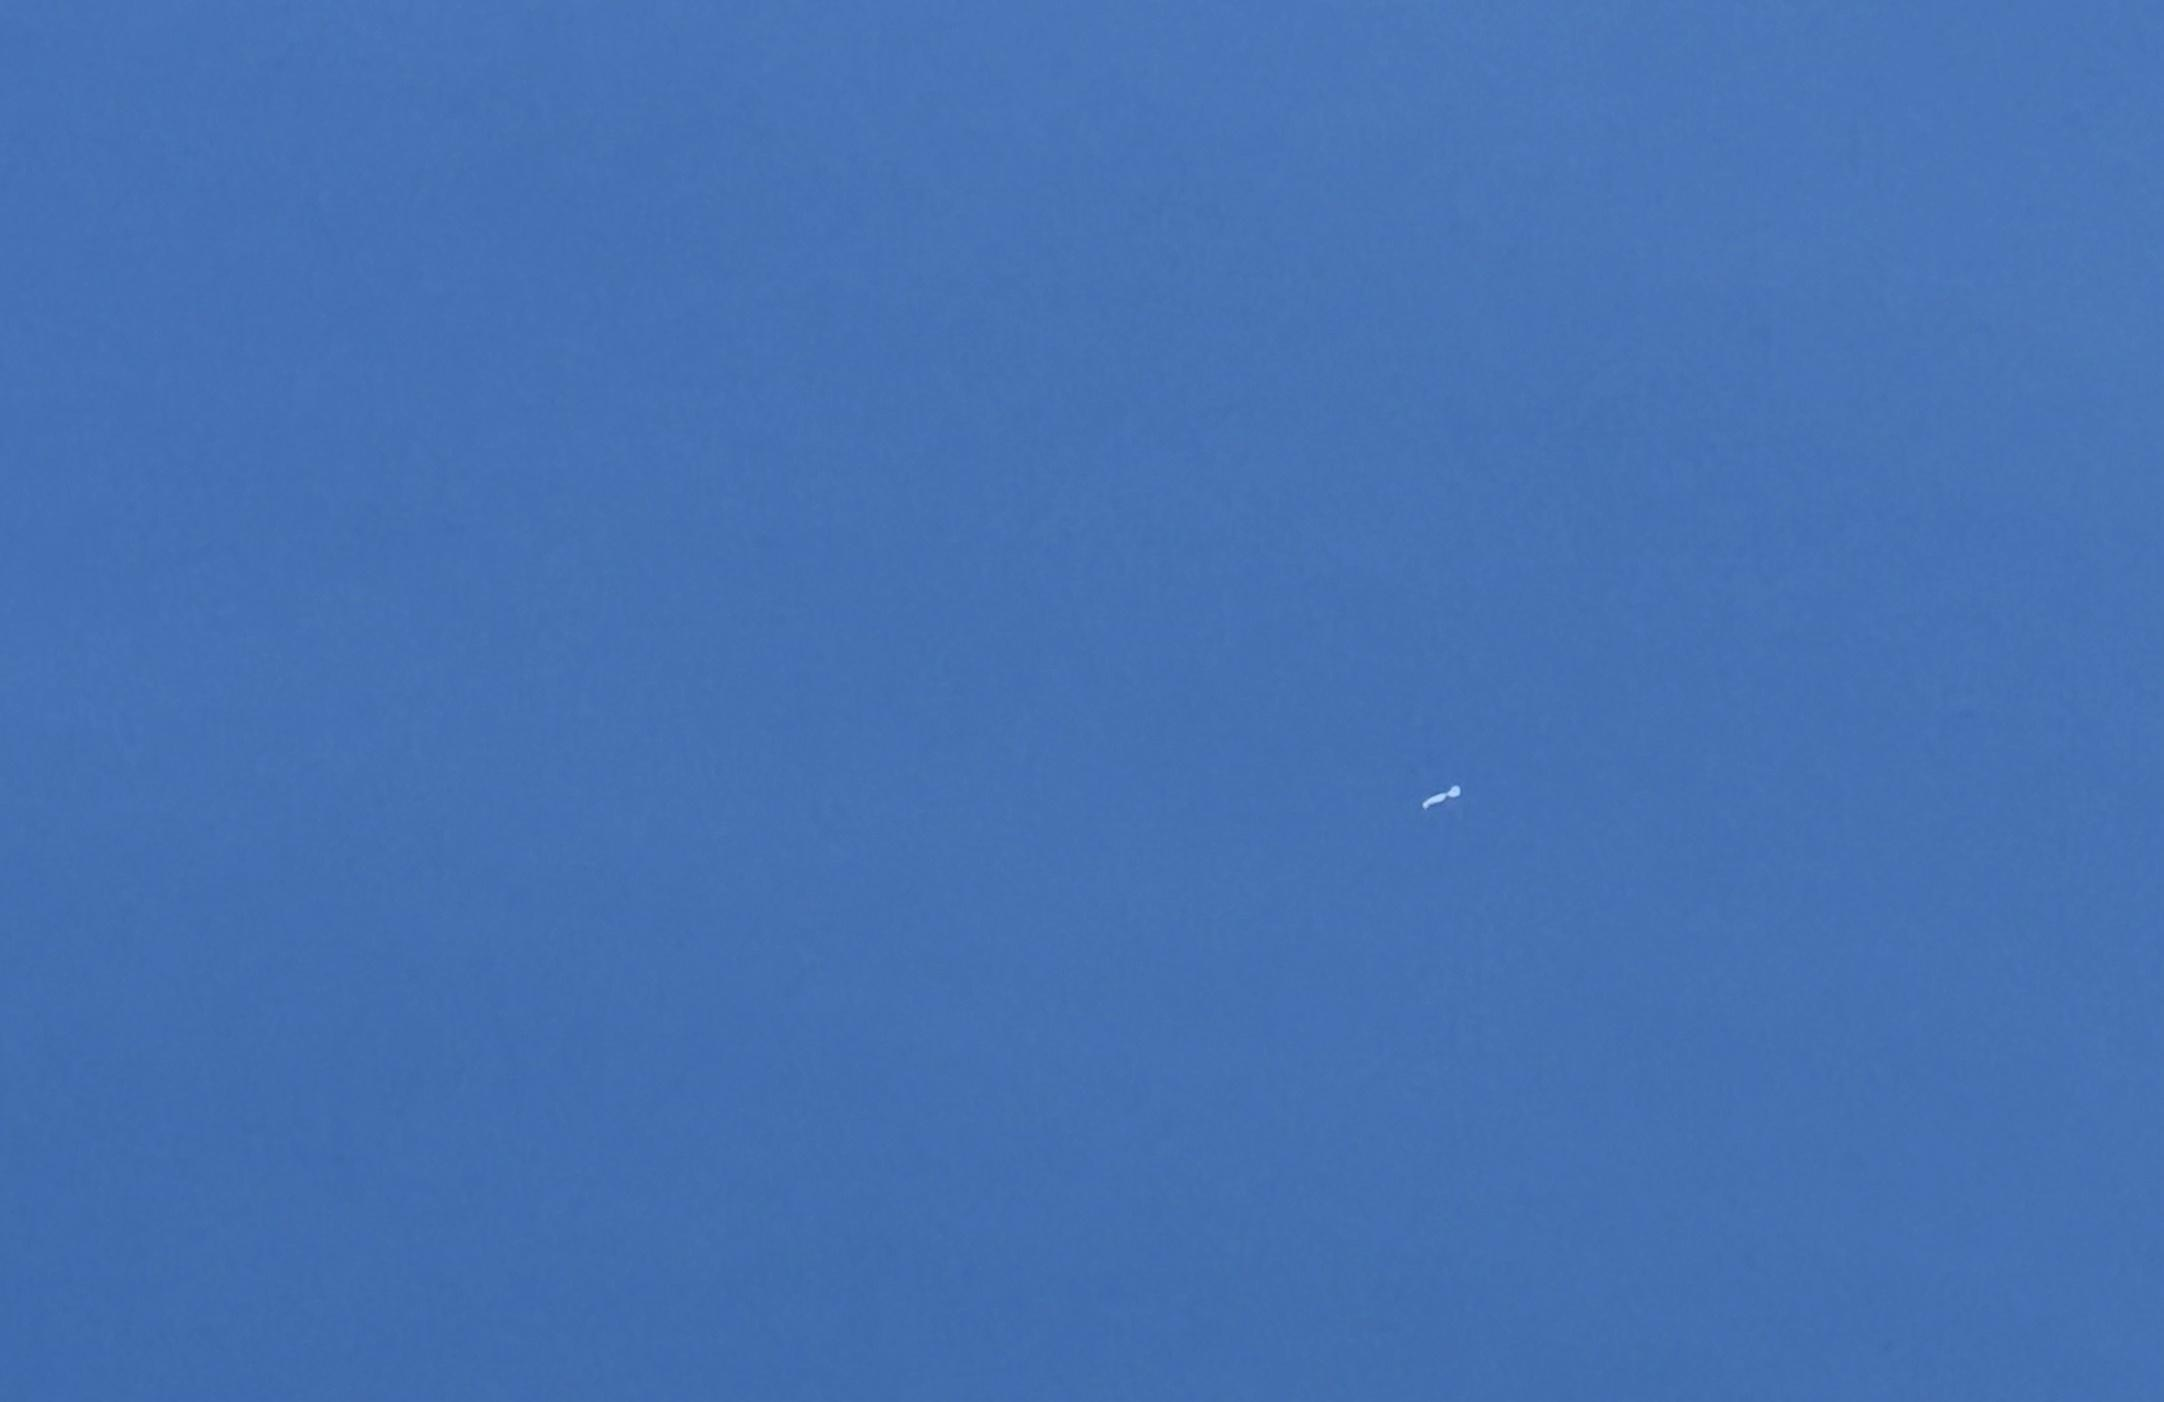Plane: (1404, 770, 1486, 823)
